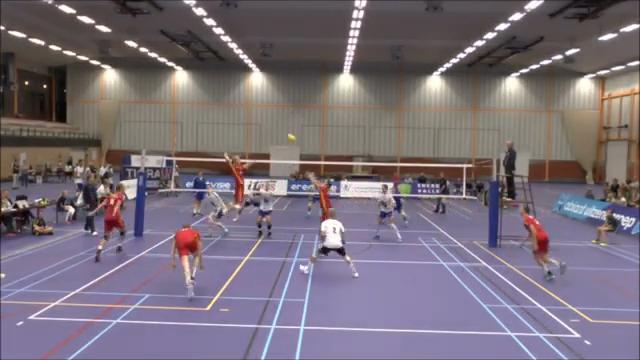alzata: (304, 169, 334, 229)
